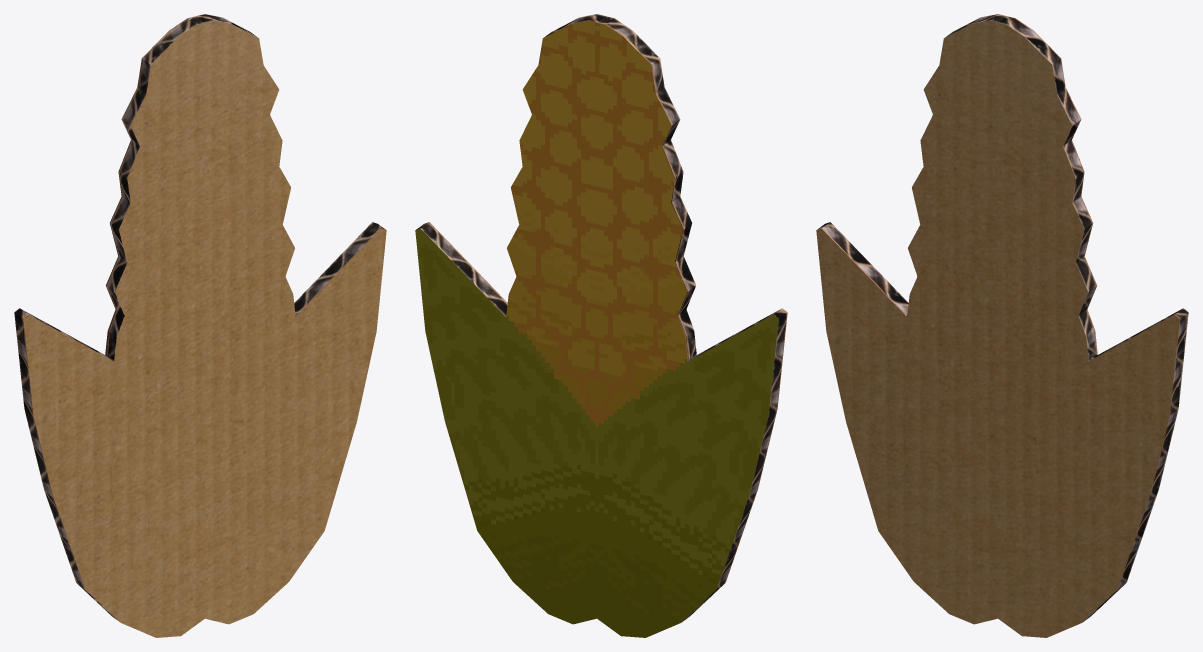
Rendered from CHOCLO_A.glb.
The picture shows the model from 3 angles, left to right: view 1: azimuth 30°, elevation 25°; view 2: azimuth 150°, elevation 25°; view 3: azimuth 330°, elevation 25°; orthographic projection.
Visible parts, largest first — view 1: CHOCLO; view 2: CHOCLO; view 3: CHOCLO.
Part boxes in pixels (left/top/right/bottom): CHOCLO: left=14, top=14, right=386, bottom=637; CHOCLO: left=415, top=14, right=787, bottom=637; CHOCLO: left=816, top=14, right=1188, bottom=637.
Bounding box in the file's own units: 2.33 × 3.72 × 0.0998.
1 material, 1 textured.
